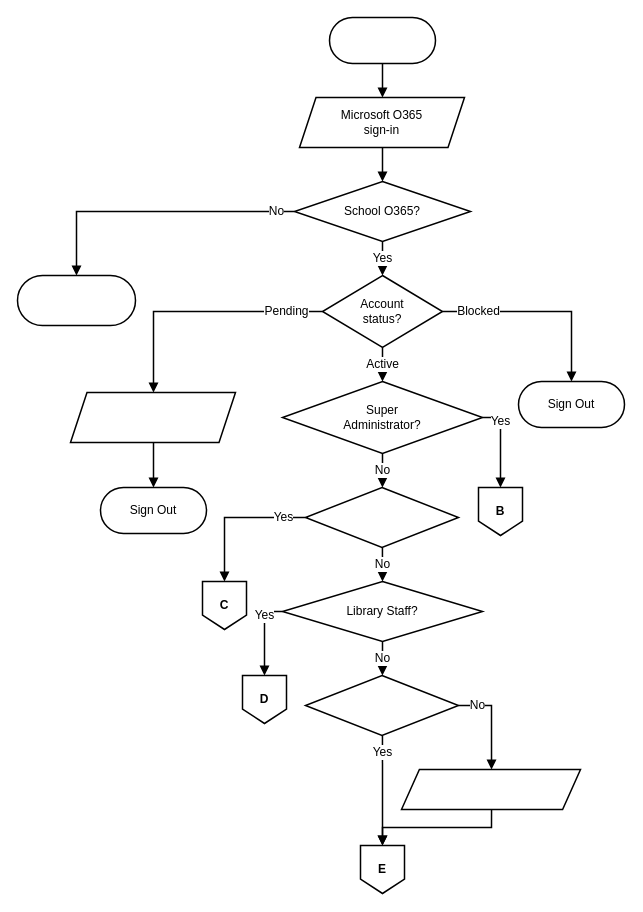
This 643x912 diagram has some shape labels left out. Each missing label, with the centre of its shape:
Complete profile: point 490,789
Edit Info & await approval: point 152,417
End (sign-in error): point 76,300
Librarian?: point 381,517
Onboarded?: point 381,705
Start: point 382,40
